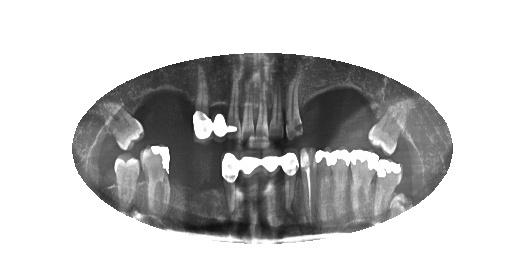i10healthy: (216, 149, 243, 215)
i11loss: (204, 150, 224, 215)
i12loss: (188, 150, 207, 209)
i13loss: (167, 149, 189, 209)
i14healthy: (138, 143, 177, 212)
i15healthy: (111, 152, 142, 208)
i16loss: (91, 156, 117, 200)
i1healthy: (390, 186, 416, 219)
i2healthy: (370, 150, 404, 215)
i3healthy: (348, 145, 382, 210)
i4healthy: (328, 142, 350, 209)
i5healthy: (309, 147, 333, 211)
i6healthy: (296, 144, 320, 211)
i7healthy: (279, 146, 302, 209)
i8healthy: (257, 147, 281, 215)
i9healthy: (237, 147, 263, 225)
u10healthy: (239, 74, 258, 144)
u11healthy: (225, 67, 242, 141)
u12loss: (209, 62, 230, 141)
u13healthy: (188, 61, 214, 143)
u14loss: (162, 70, 191, 137)
u15loss: (129, 82, 167, 136)
u16healthy: (93, 102, 147, 153)
u1loss: (396, 118, 420, 169)
u2healthy: (366, 93, 412, 156)
u3loss: (348, 75, 383, 136)
u4loss: (331, 72, 353, 134)
u5loss: (313, 74, 334, 135)
u6loss: (297, 75, 316, 136)
u7healthy: (279, 73, 307, 143)
u8decay: (265, 75, 287, 141)
u9healthy: (254, 76, 271, 145)
